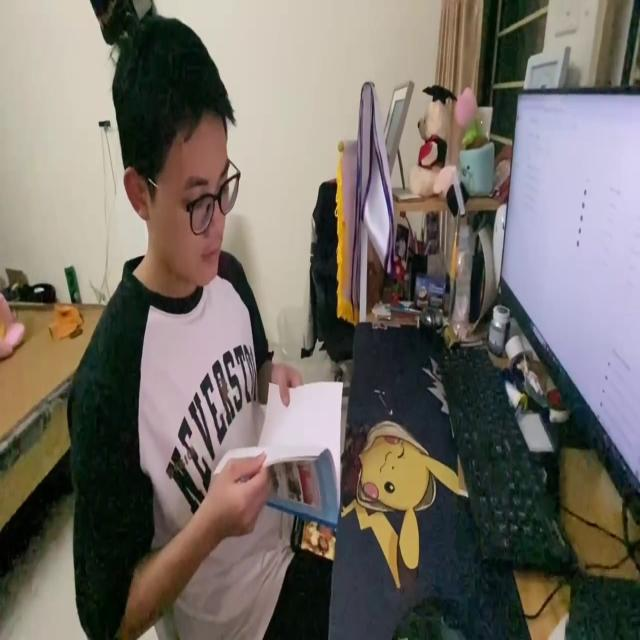book: (218, 369, 344, 532)
laptop: (496, 80, 640, 526)
phone: (293, 511, 338, 562)
student: (65, 10, 333, 640)
